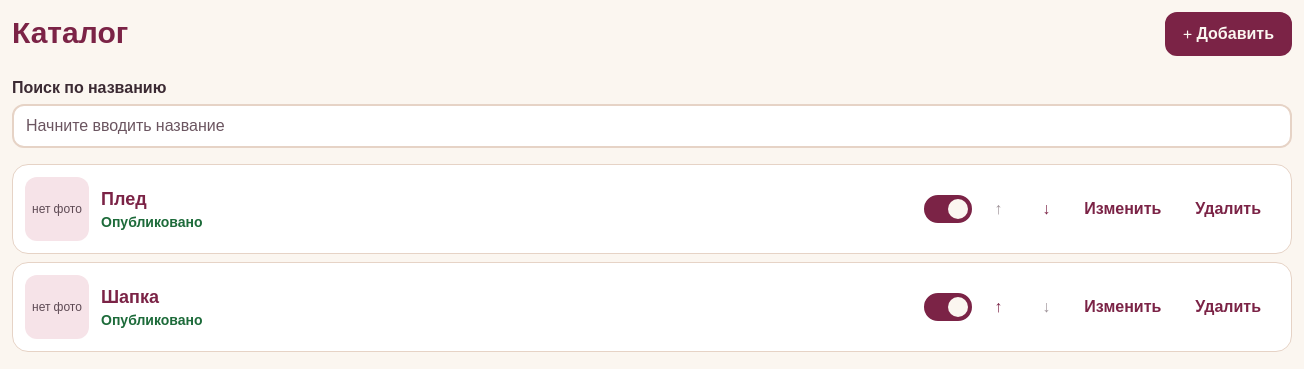
Test: список › поиск фильтрует по названию
This screenshot has width=1304, height=369.
Type "шап" into the search field labelled "Поиск по названию".
click(652, 126); type("шап")  # box [12, 104, 1292, 148]
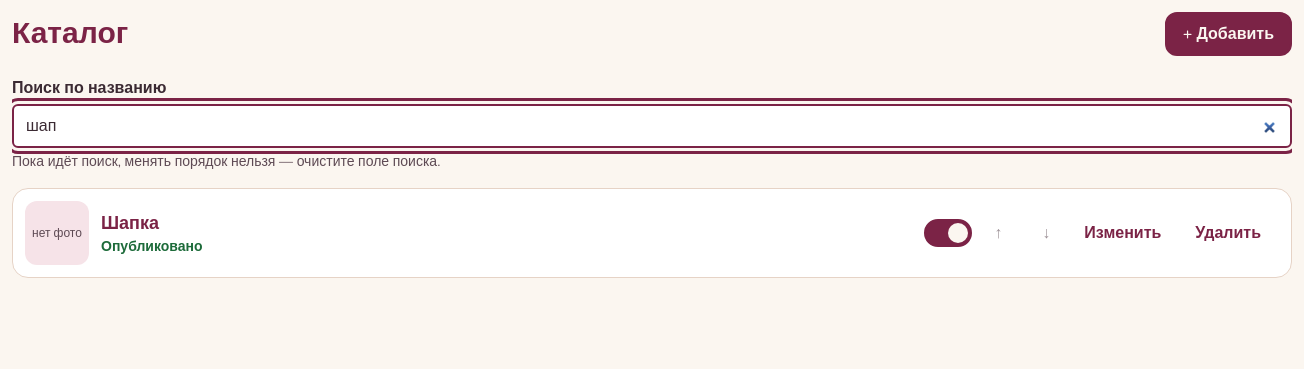
Expected: the link "Шапка" is shown, [101, 211, 159, 235]
Now the link "Плед" is gone
